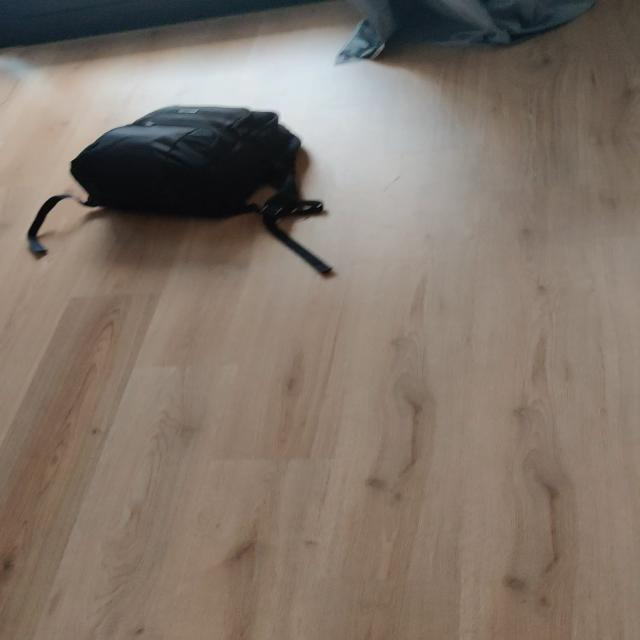backpack: (62, 98, 315, 225)
